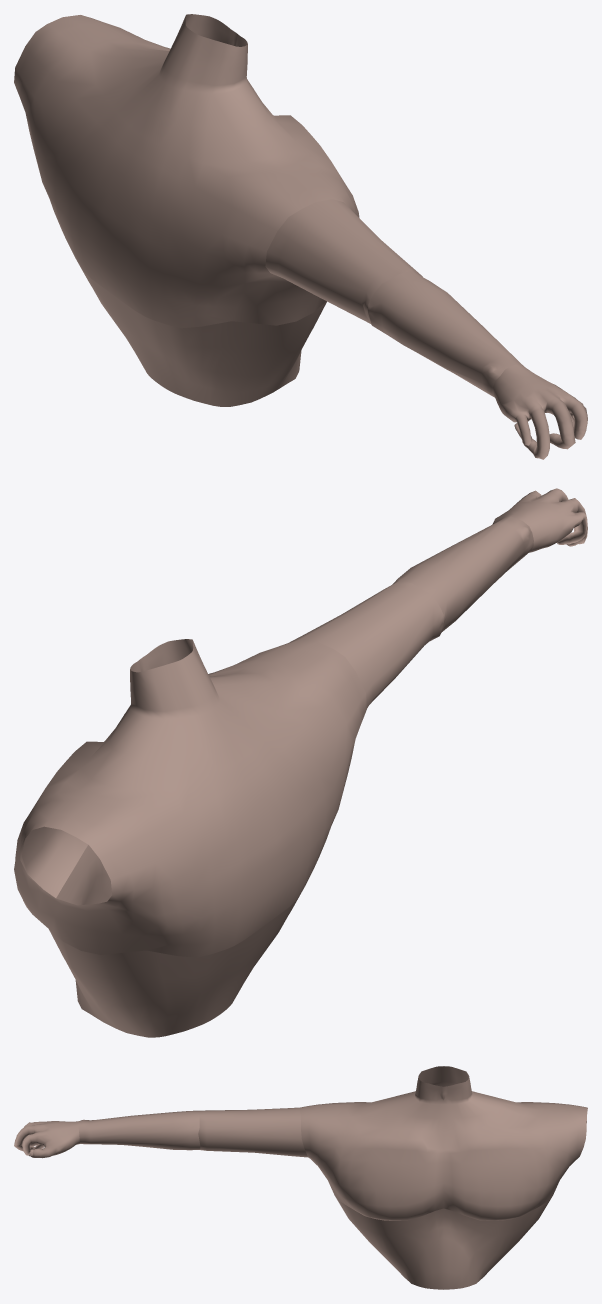
The model's file is takeshi_hand.fbx.
The picture shows the model from 3 angles, top to bottom: view 1: azimuth 30°, elevation 25°; view 2: azimuth 150°, elevation 25°; view 3: azimuth 270°, elevation 25°; orthographic projection. The views are drawn at different scales.
Parts seen in each view (by area): view 1: Body_Upper, Body_Belly, Biceps_R, Forearm_R, Hand_R; view 2: Body_Upper, Body_Belly, Biceps_R, Forearm_R, Hand_R; view 3: Body_Upper, Body_Belly, Biceps_R, Forearm_R, Hand_R.
Boxes of the visible parts, left/top/right/bottom form: Body_Upper: left=14, top=14, right=359, bottom=328; Body_Belly: left=77, top=261, right=326, bottom=406; Biceps_R: left=265, top=199, right=422, bottom=324; Forearm_R: left=368, top=271, right=524, bottom=397; Hand_R: left=492, top=364, right=587, bottom=459; Body_Upper: left=14, top=639, right=367, bottom=957; Body_Belly: left=49, top=845, right=299, bottom=1037; Biceps_R: left=289, top=580, right=443, bottom=707; Forearm_R: left=392, top=516, right=533, bottom=634; Hand_R: left=492, top=488, right=587, bottom=552; Body_Upper: left=299, top=1066, right=587, bottom=1220; Body_Belly: left=335, top=1197, right=551, bottom=1289; Biceps_R: left=198, top=1107, right=308, bottom=1157; Forearm_R: left=78, top=1110, right=200, bottom=1150; Hand_R: left=14, top=1121, right=79, bottom=1158.
Size of the model in its own units: 0.8141 by 1.35 by 3.56.
